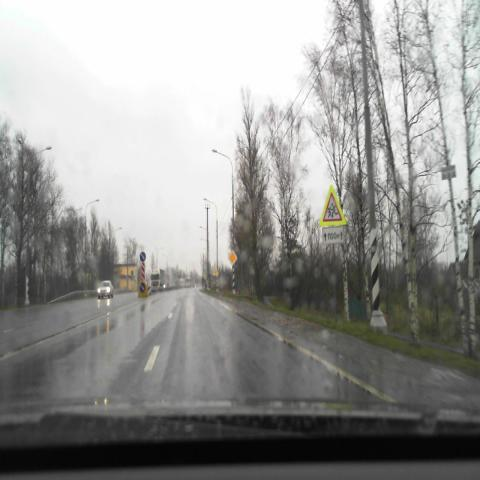8_2_1: (322, 227, 344, 245)
